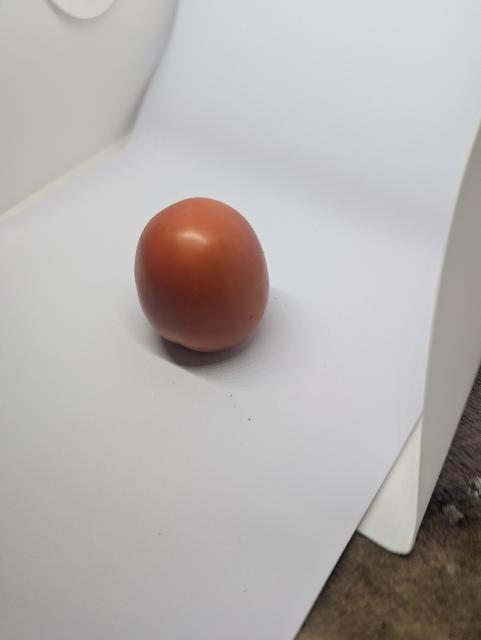red: (113, 191, 291, 363)
